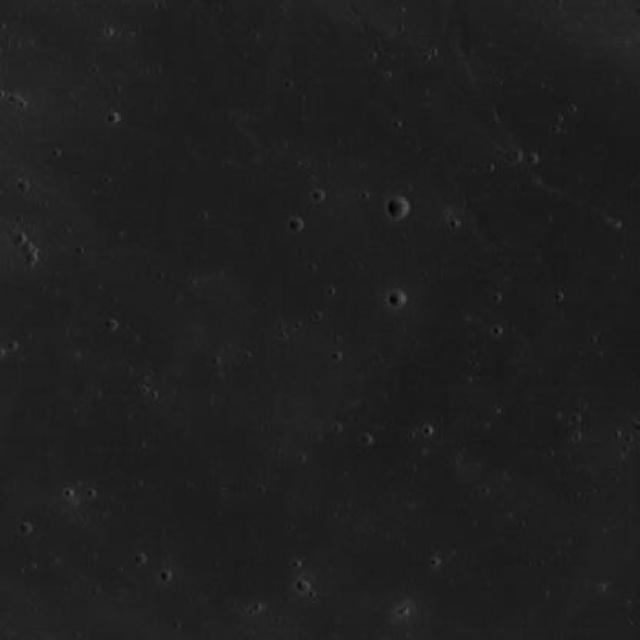crater: (386, 197, 411, 220), (390, 293, 408, 310)
